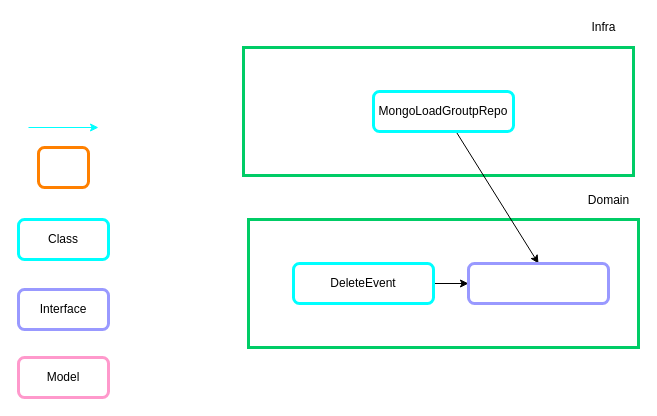
Image size: 657x416. Some labels were removed from this diagram. Here are the shapes that lost their labels. From the top down, the centre of each, then its label:
At (63,167): "Lib".
At (538,283): "LoadGroupRepo".
